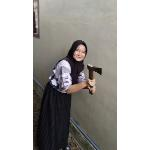Kapak: (85, 63, 105, 97)
